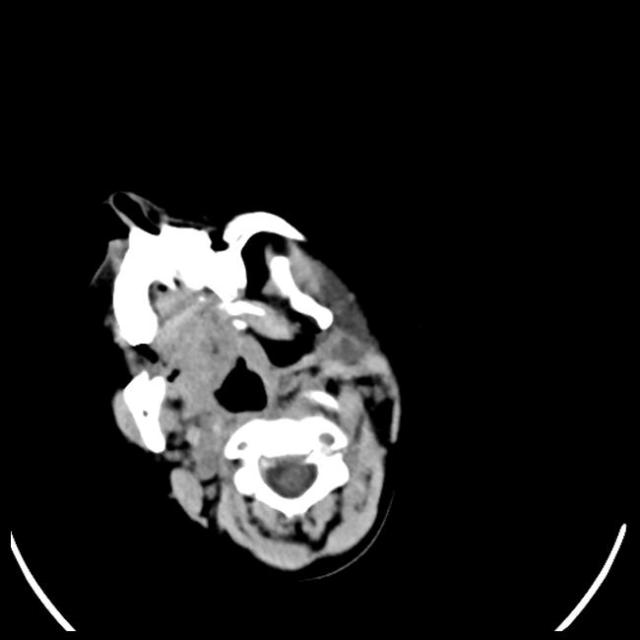lesion: (83, 184, 410, 581)
